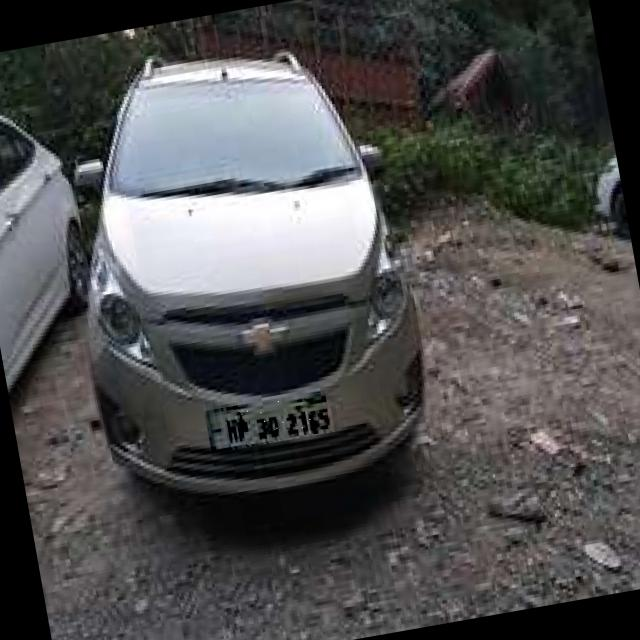Plate: (205, 390, 333, 454)
